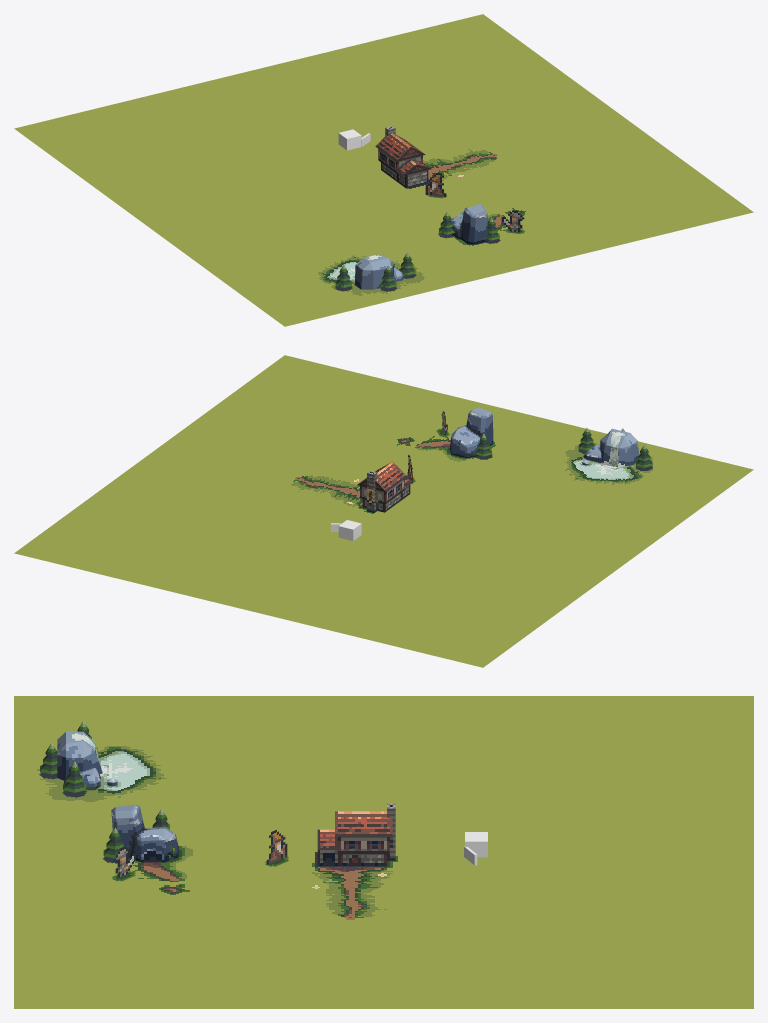
The model's file is landscape.gltf.
The picture shows the model from 3 angles, top to bottom: view 1: azimuth 30°, elevation 25°; view 2: azimuth 150°, elevation 25°; view 3: azimuth 270°, elevation 25°; orthographic projection. The views are drawn at different scales.
Parts seen in each view (by area): view 1: plane, beveled_cuboid (×2), big-roof; view 2: plane, beveled_cuboid (×3), big-roof; view 3: plane, beveled_cuboid (×3), big-roof, top-stone, cone, cube.
Part boxes in pixels (bbox=[...]): plane: bbox=[14, 14, 753, 326]; beveled_cuboid (×2): bbox=[354, 204, 488, 289]; big-roof: bbox=[375, 133, 425, 161]; plane: bbox=[14, 355, 753, 667]; beveled_cuboid (×3): bbox=[449, 407, 638, 467]; big-roof: bbox=[357, 461, 407, 491]; plane: bbox=[14, 696, 753, 1008]; beveled_cuboid (×3): bbox=[57, 731, 178, 862]; big-roof: bbox=[335, 811, 392, 836]; top-stone: bbox=[337, 837, 389, 853]; cone: bbox=[62, 761, 86, 797]; cube: bbox=[340, 854, 386, 865].
Bounding box in the file's own units: 16 × 1.5 × 16.
Materials: 7 (6 with a texture image).
